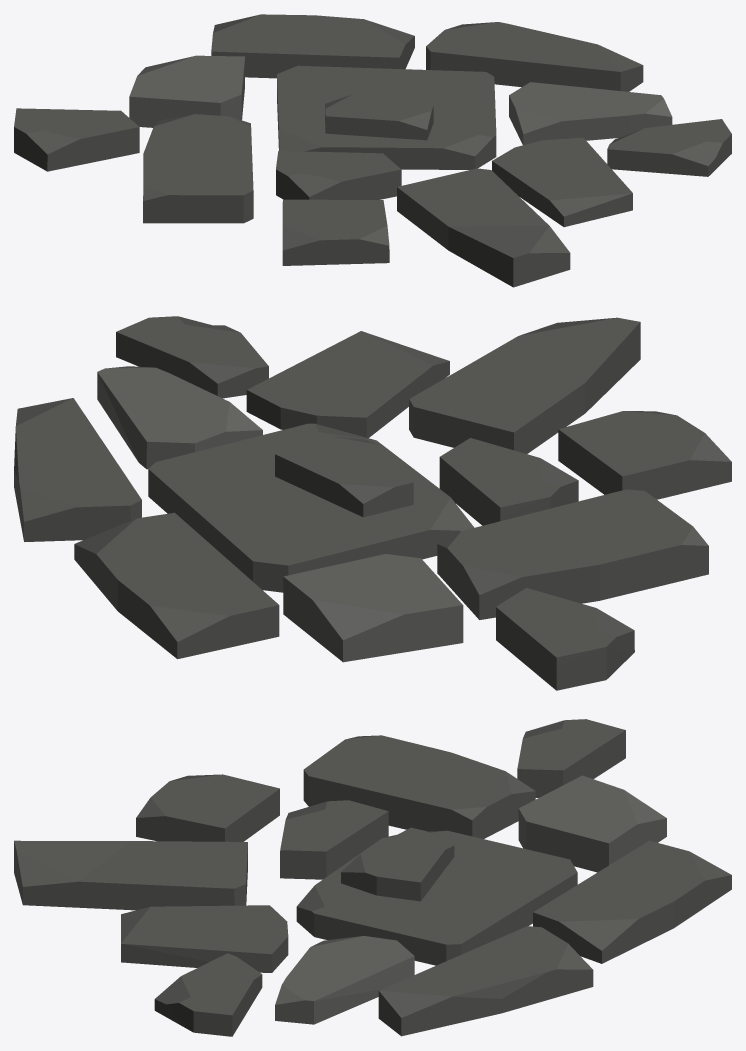
File: SM_Envr_Nature_Rock_Rubble_03.fbx
3 views of the same model, one above another, from view 1: azimuth 30°, elevation 25°; view 2: azimuth 150°, elevation 25°; view 3: azimuth 270°, elevation 25° (orthographic). The views are drawn at different scales.
Parts seen in each view (by area): view 1: SM_Envr_Nature_Rock_Rubble_03; view 2: SM_Envr_Nature_Rock_Rubble_03; view 3: SM_Envr_Nature_Rock_Rubble_03.
Part boxes in pixels (left/top/right/bottom): SM_Envr_Nature_Rock_Rubble_03: left=14, top=14, right=731, bottom=287; SM_Envr_Nature_Rock_Rubble_03: left=14, top=316, right=731, bottom=690; SM_Envr_Nature_Rock_Rubble_03: left=14, top=719, right=731, bottom=1036.
Bounding box in the file's own units: 326 × 22.29 × 342.
